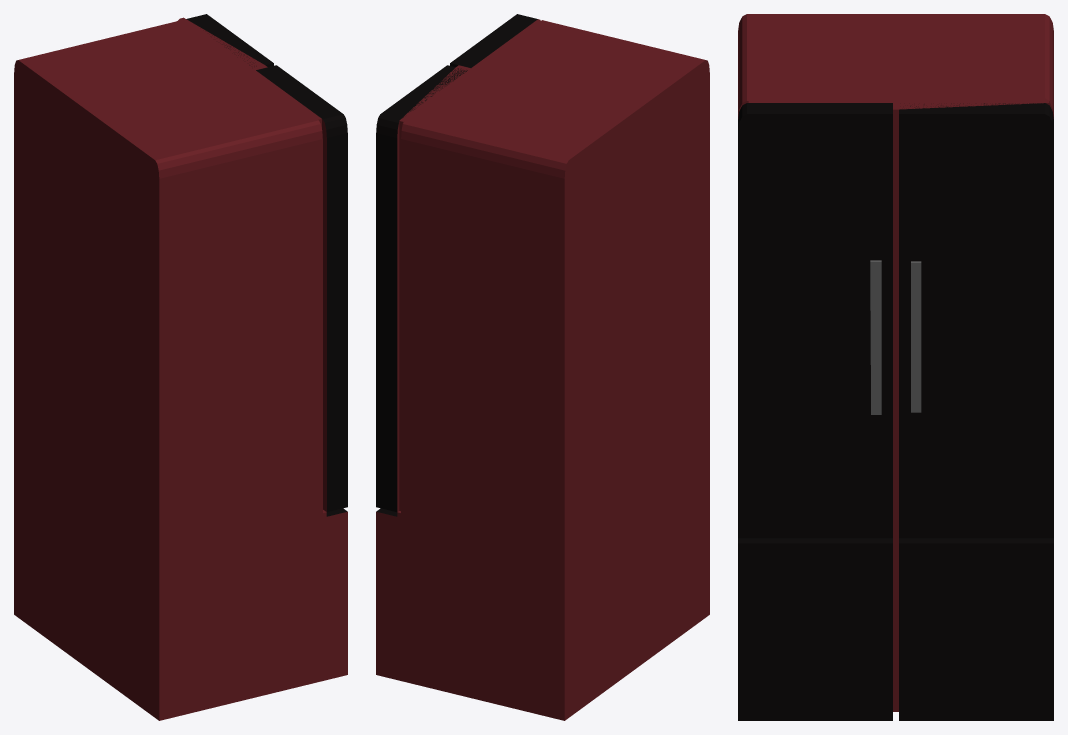
The model's file is frigo.fbx.
3 renders of one model, left to right at view 1: azimuth 30°, elevation 25°; view 2: azimuth 150°, elevation 25°; view 3: azimuth 270°, elevation 25°, orthographic. The views are drawn at different scales.
Parts seen in each view (by area): view 1: frigo; view 2: frigo; view 3: frigo.
Boxes of the visible parts, bbox=[...] form: frigo: bbox=[14, 14, 347, 720]; frigo: bbox=[376, 14, 709, 720]; frigo: bbox=[738, 14, 1053, 720].
Size of the model in its own units: 156 by 424 by 200.
